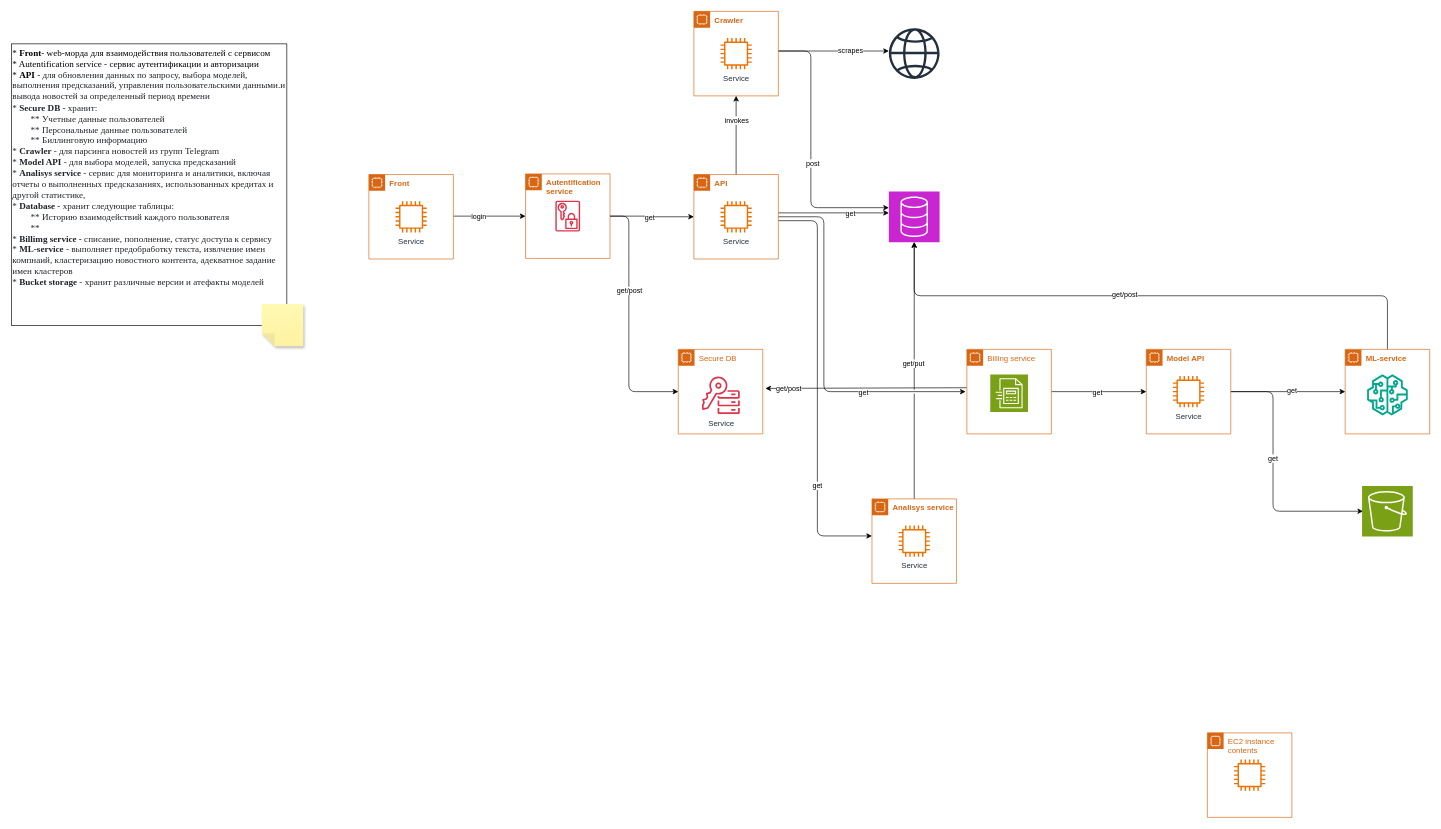
This 1441x829 diagram has some shape labels left out. Each missing label, with the centre of its shape:
"Bucket storage" belongs at point (1387, 511).
"Database" belongs at point (914, 216).
"Telegram posts" belongs at point (914, 53).
"Описание" belongs at point (283, 325).
